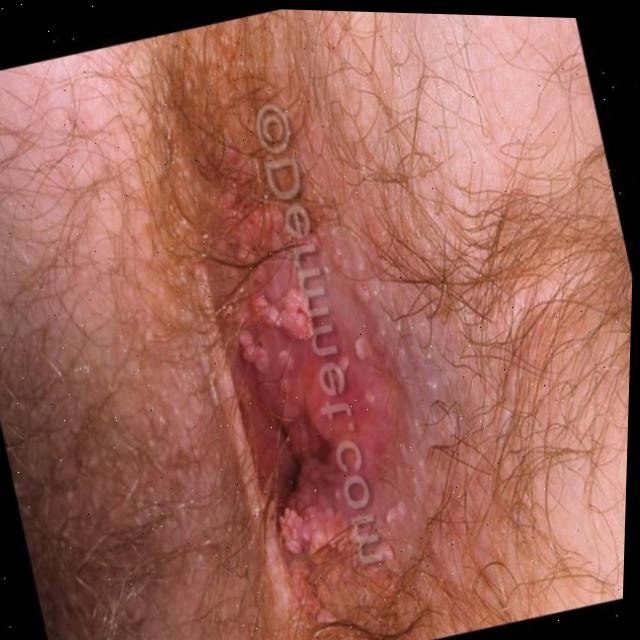Shingles: (218, 221, 379, 577)
